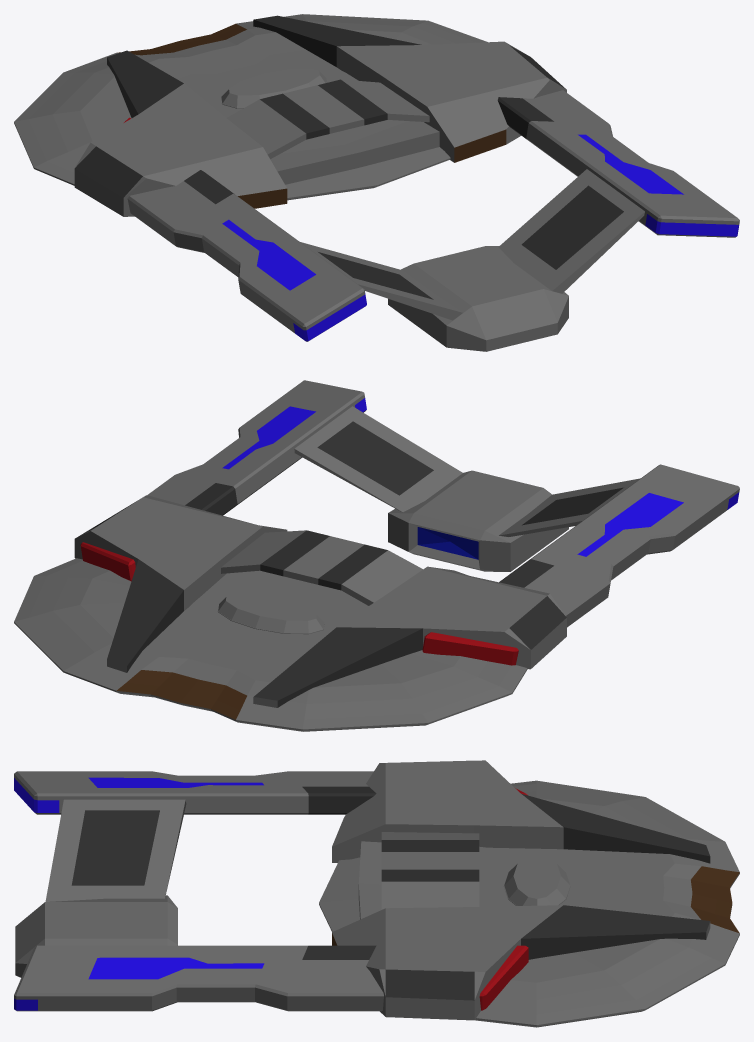
File: steamrunner.fbx
3 views of the same model, one above another, from view 1: azimuth 30°, elevation 25°; view 2: azimuth 150°, elevation 25°; view 3: azimuth 270°, elevation 25° (orthographic). The views are drawn at different scales.
Parts seen in each view (by area): view 1: Plating, SRSaucer, SRNacelle, Pylons.001, Deflector, Wing; view 2: SRSaucer, Plating, SRNacelle, Pylons.001, Deflector, Wing; view 3: Plating, SRSaucer, SRNacelle, Pylons.001, Deflector, Wing.
Boxes of the visible parts, box(x1,y1,x2,y2) form: Plating: box(74, 15, 566, 216); SRSaucer: box(14, 14, 487, 200); SRNacelle: box(124, 90, 739, 341); Pylons.001: box(300, 169, 644, 320); Deflector: box(388, 246, 568, 351); Wing: box(226, 79, 429, 159); SRSaucer: box(14, 558, 527, 731); Plating: box(74, 495, 566, 707); SRNacelle: box(80, 380, 739, 665); Pylons.001: box(294, 406, 640, 536); Deflector: box(388, 470, 568, 571); Wing: box(221, 530, 422, 605); Plating: box(332, 760, 710, 1020); SRSaucer: box(319, 780, 739, 1027); SRNacelle: box(14, 771, 528, 1011); Pylons.001: box(45, 799, 186, 901); Deflector: box(15, 895, 177, 977); Wing: box(381, 832, 479, 909).
Bounding box in the file's own units: 797 × 155 × 1000.
